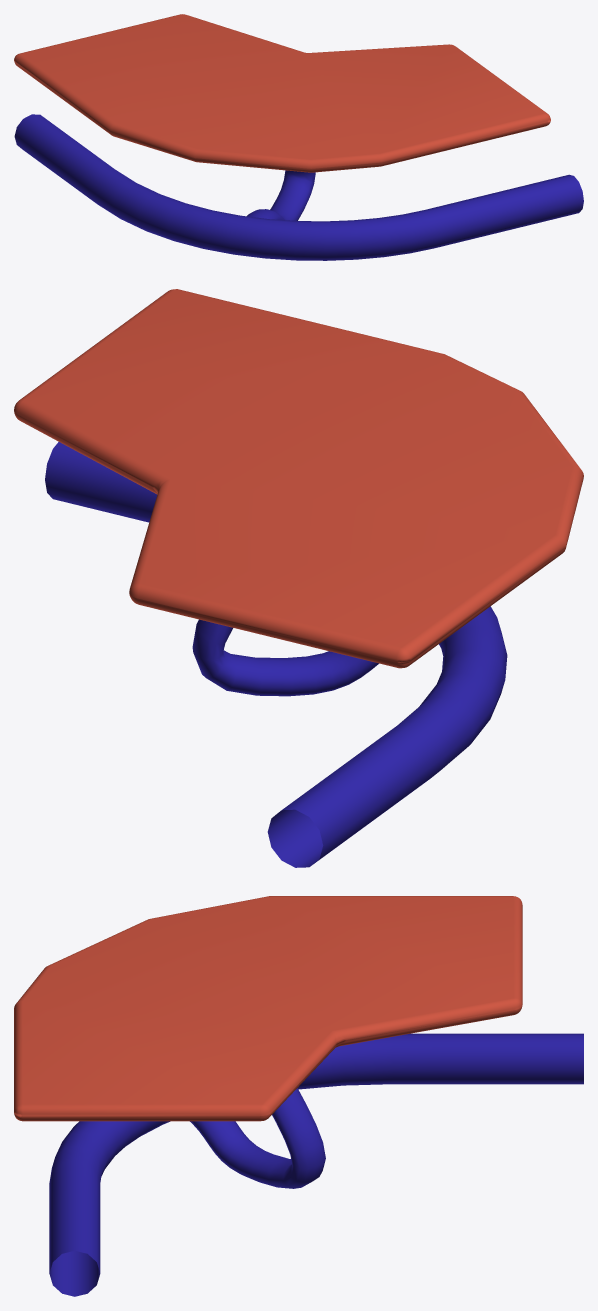
File: Table_Rangee.fbx
3 views of the same model, one above another, from view 1: azimuth 30°, elevation 25°; view 2: azimuth 150°, elevation 25°; view 3: azimuth 270°, elevation 25° (orthographic). The views are drawn at different scales.
Visible parts, largest first — view 1: Table.001; view 2: Table.001; view 3: Table.001.
Part boxes in pixels (x1,y1,x2,y2): Table.001: (14,14,583,260); Table.001: (14,289,583,867); Table.001: (14,896,583,1296).
Bounding box in the file's own units: 113 × 38.99 × 112.
